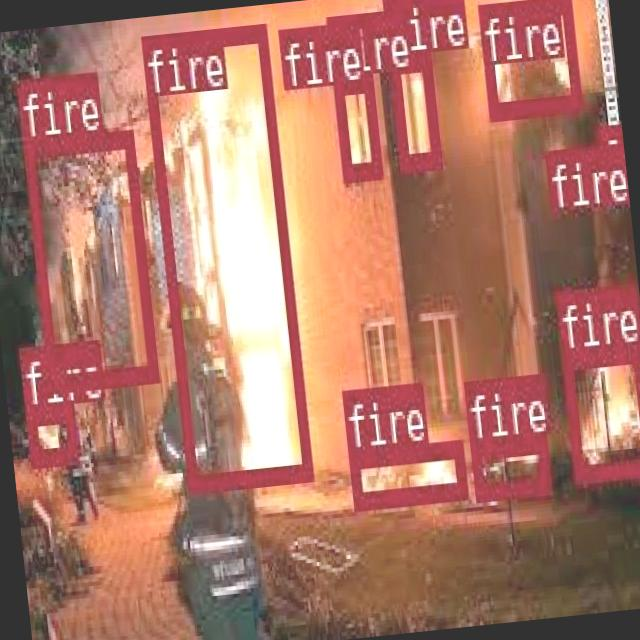fire: (138, 21, 310, 488), (21, 128, 156, 390), (475, 0, 580, 116), (560, 343, 640, 478), (346, 438, 466, 508), (386, 50, 439, 170), (331, 70, 382, 180), (468, 433, 550, 498), (276, 22, 354, 78), (24, 400, 76, 463), (594, 121, 624, 191), (544, 146, 566, 172)
